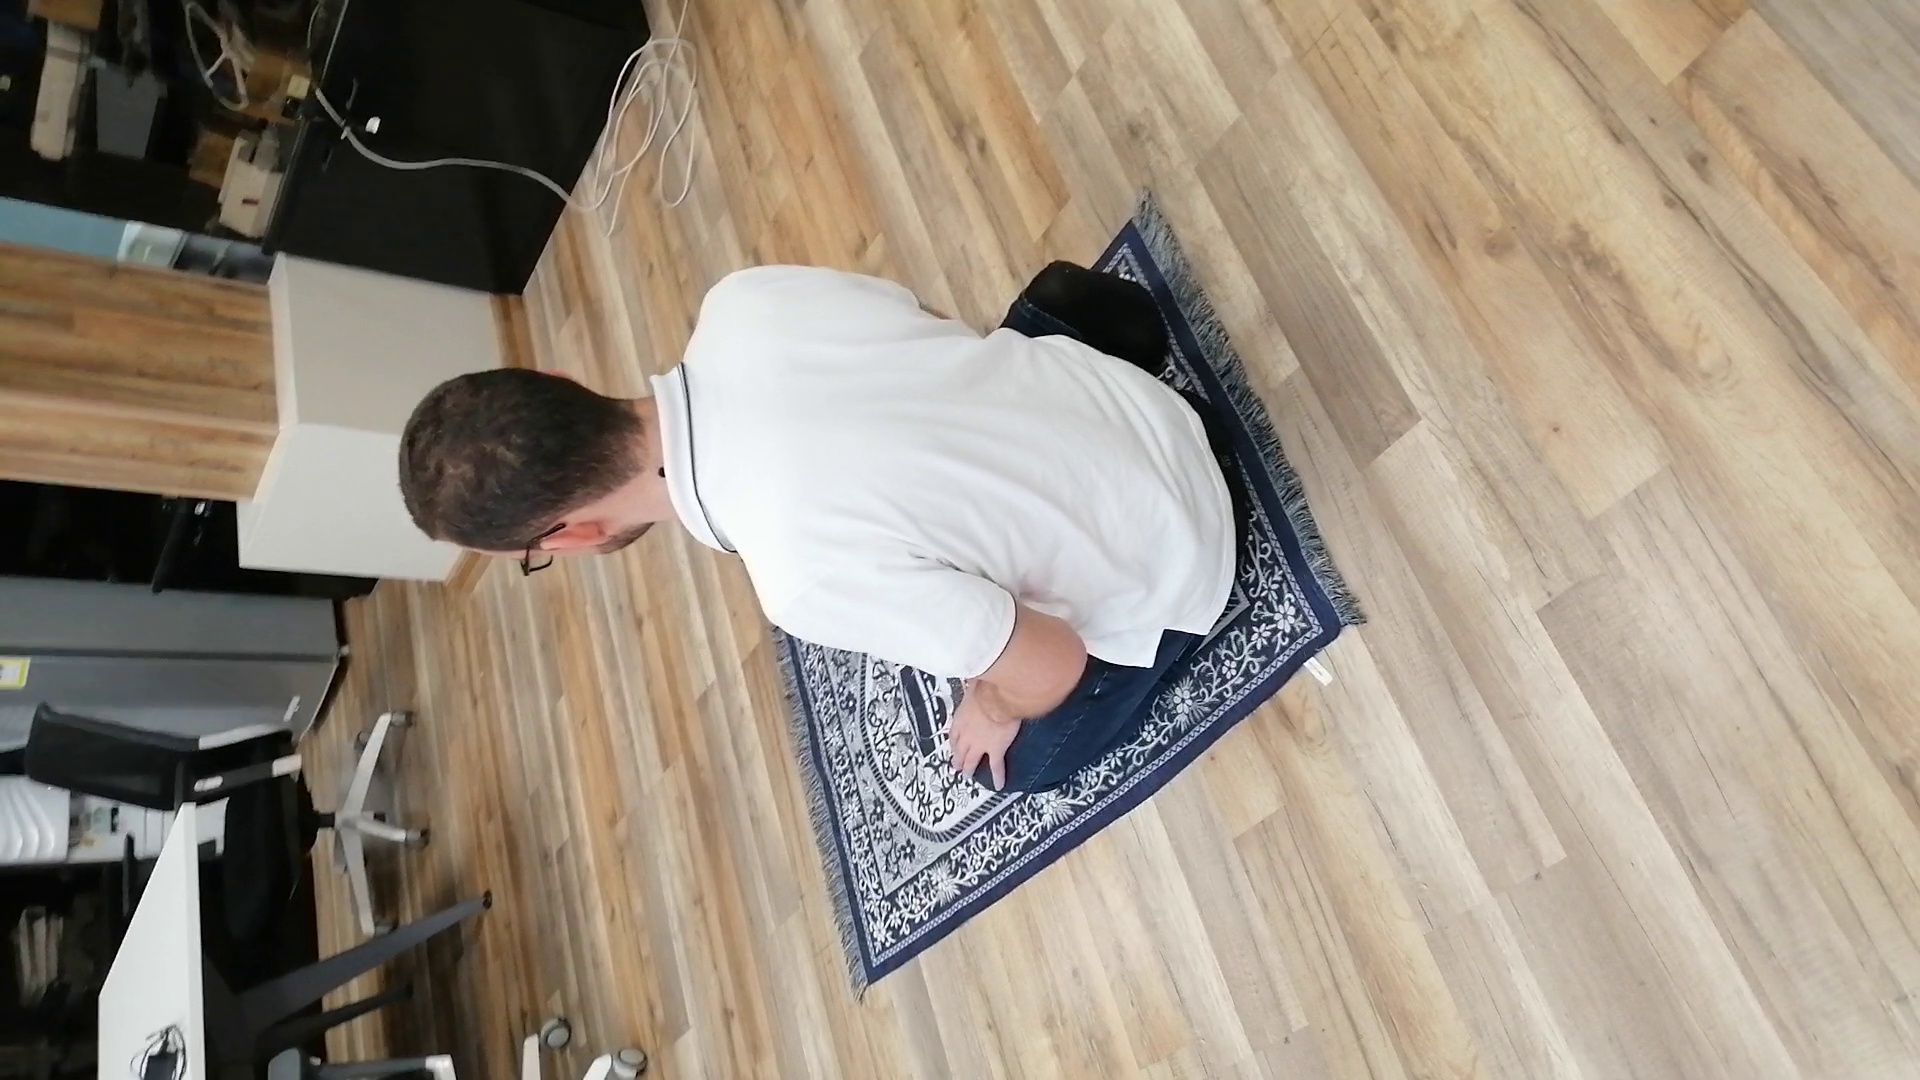sitting: (388, 251, 1265, 803)
